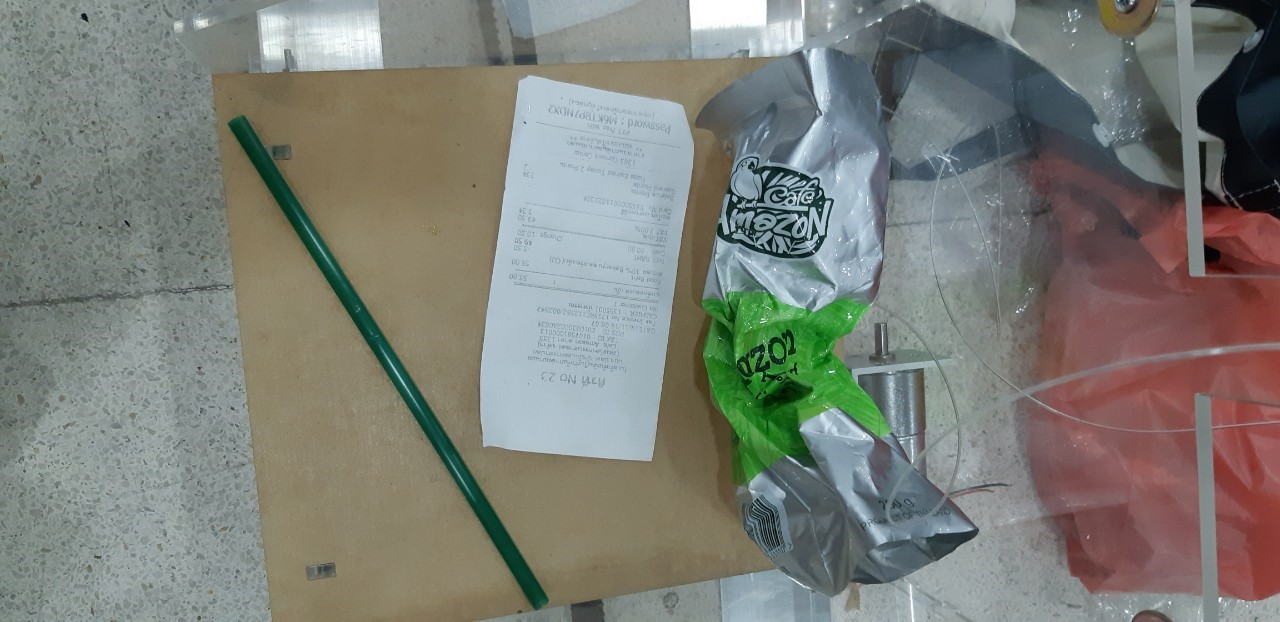Others: (225, 110, 548, 610), (690, 45, 981, 593), (478, 74, 695, 459)
